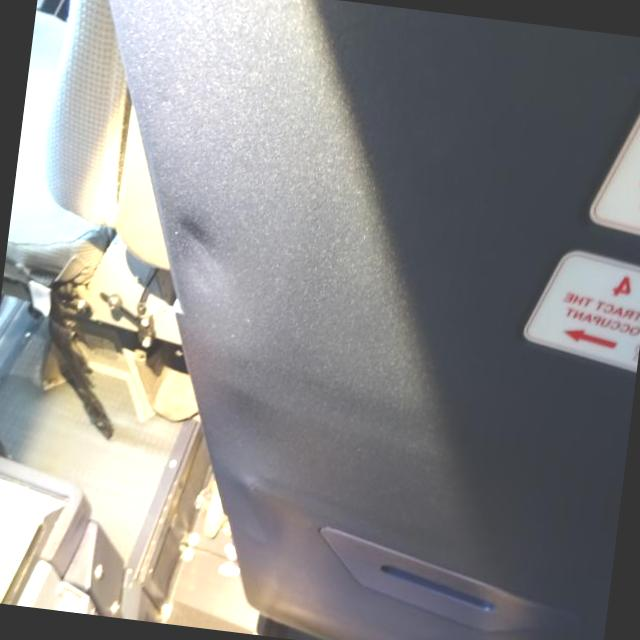dent: (196, 362, 310, 519), (150, 179, 268, 329)
